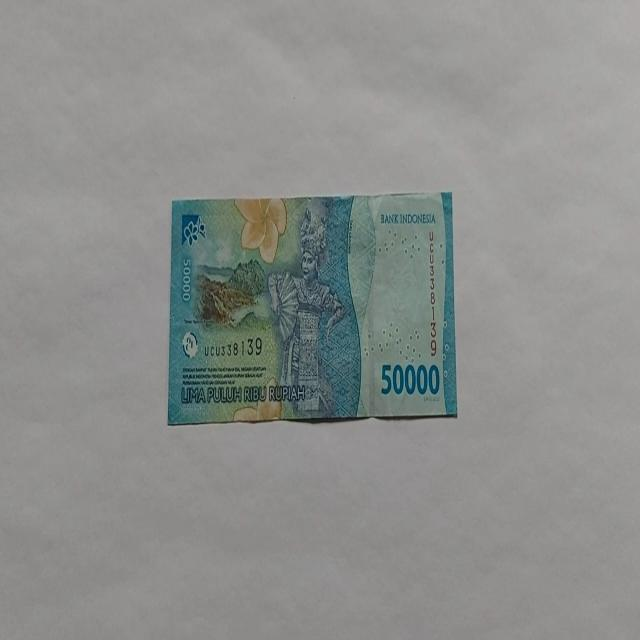lima puluh ribu rupiah: (166, 190, 458, 426)
